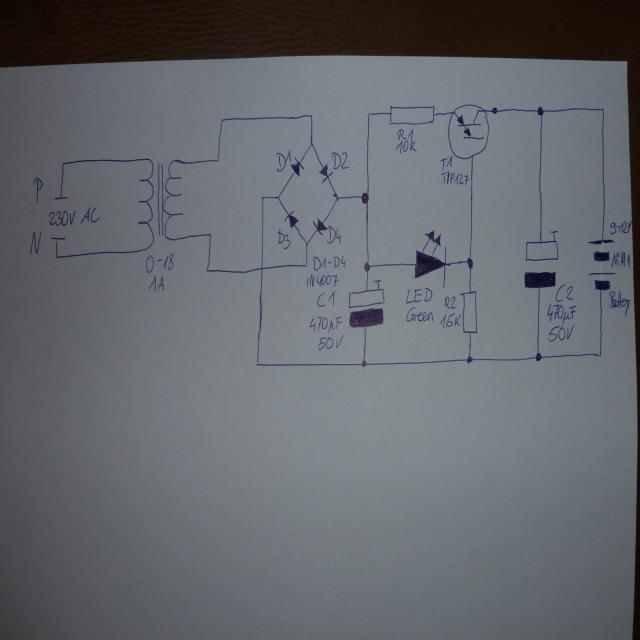capacitor: (522, 228, 560, 290), (347, 277, 385, 328)
crossover: (258, 264, 264, 270)
diode: (411, 226, 447, 288), (282, 208, 300, 229), (287, 155, 305, 176), (311, 216, 327, 236), (316, 162, 331, 182)
junction: (534, 104, 546, 119), (465, 254, 475, 268), (360, 190, 370, 204), (362, 260, 372, 272), (464, 353, 474, 364), (534, 350, 542, 362), (359, 358, 367, 368), (53, 251, 61, 261), (204, 265, 212, 274), (218, 116, 225, 124), (332, 192, 339, 200), (59, 160, 66, 168), (308, 111, 314, 119), (599, 104, 605, 112), (254, 359, 260, 367), (206, 230, 212, 238), (596, 350, 602, 358), (308, 141, 314, 149), (303, 238, 309, 246), (276, 193, 282, 200), (215, 155, 220, 163), (366, 110, 371, 117), (303, 260, 308, 267), (260, 194, 264, 200)
resistor: (387, 102, 436, 126), (460, 290, 478, 333)
source: (586, 237, 616, 292)
terminal: (49, 233, 66, 244), (52, 192, 70, 202)
text: (48, 204, 101, 227), (308, 312, 343, 333), (546, 302, 576, 324), (144, 252, 175, 273), (312, 253, 346, 271), (608, 288, 630, 315), (404, 285, 434, 304), (405, 308, 438, 324), (30, 177, 48, 206), (547, 324, 575, 342), (305, 272, 339, 286), (330, 149, 350, 172), (317, 334, 344, 351), (440, 170, 469, 185), (610, 249, 631, 269), (274, 149, 292, 172), (316, 289, 336, 309), (439, 311, 462, 328), (554, 282, 573, 302), (28, 228, 42, 255), (609, 218, 631, 234), (147, 274, 166, 292), (275, 228, 290, 248), (325, 225, 339, 244), (395, 140, 416, 152), (439, 153, 453, 170), (443, 294, 457, 310), (396, 127, 413, 140)
transformer: (134, 153, 186, 254)
transistor: (446, 104, 490, 160)
